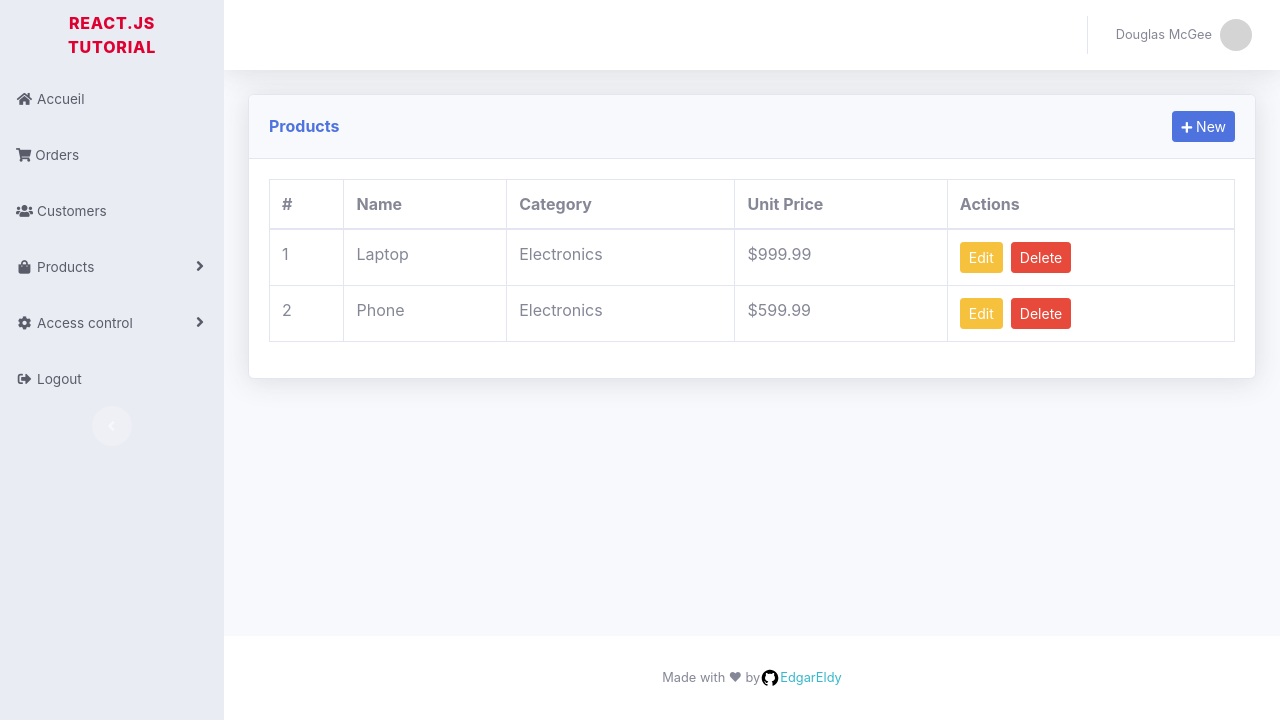
Test: Products CRUD › opens the New Product modal when New button is clicked
This screenshot has width=1280, height=720.
Click the button "New".
click(1204, 127)  # box [1172,111,1235,142]
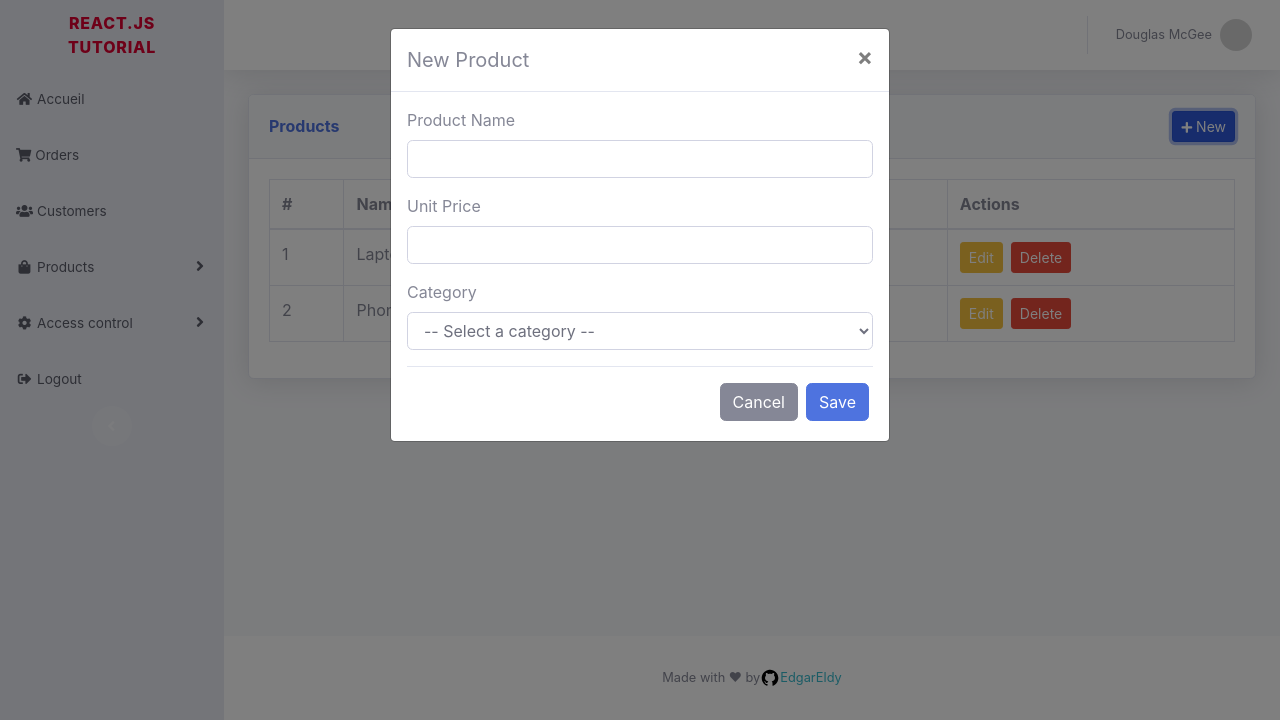
Expected: the heading "New Product" is shown, [407,45,529,75]
Expected: the field labelled "Product Name" is shown, [407,140,873,178]
Expected: the number field with id "unitPrice" is shown, [407,226,873,264]
